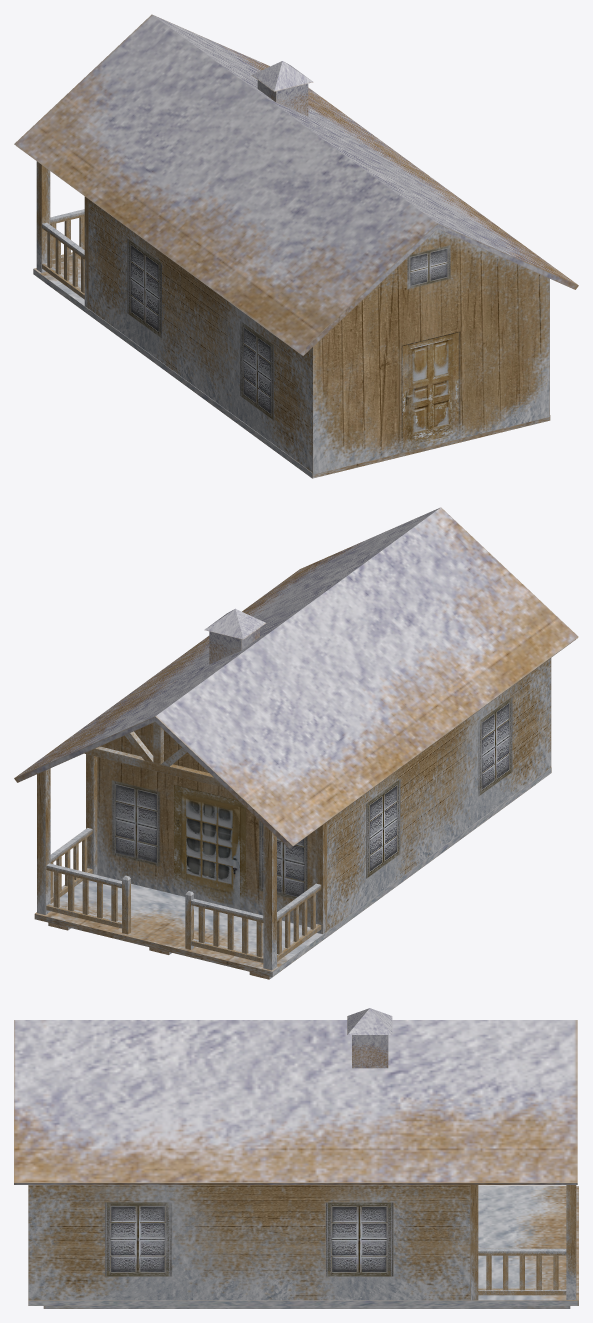
The model's file is Snow covered CottageOBJ.obj.
The picture shows the model from 3 angles, top to bottom: view 1: azimuth 30°, elevation 25°; view 2: azimuth 150°, elevation 25°; view 3: azimuth 270°, elevation 25°; orthographic projection.
Visible parts, largest first — view 1: Cottage_House; view 2: Cottage_House; view 3: Cottage_House.
Part boxes in pixels (x1=…): Cottage_House: x1=14, y1=14, x2=578, y2=478; Cottage_House: x1=14, y1=507, x2=578, y2=979; Cottage_House: x1=14, y1=1008, x2=578, y2=1308.
Size of the model in its own units: 65.76 by 59.31 by 117.
Materials: 1 (1 with a texture image).
